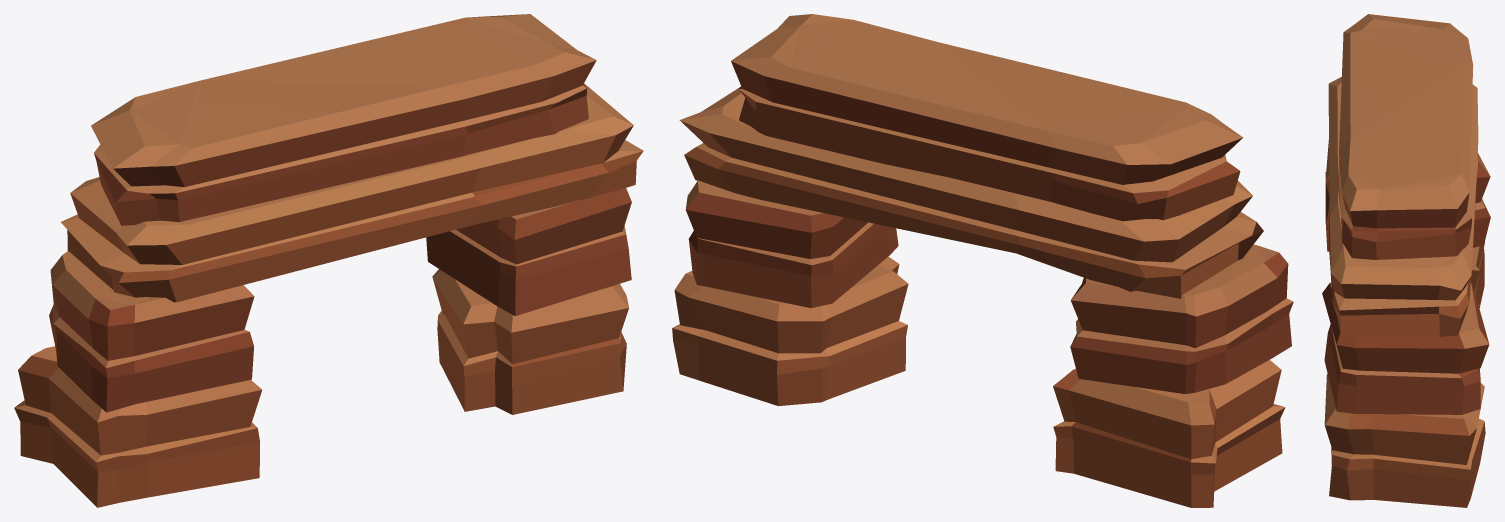
File: sandstone_arch.glb
3 renders of one model, left to right at view 1: azimuth 30°, elevation 25°; view 2: azimuth 150°, elevation 25°; view 3: azimuth 270°, elevation 25°, orthographic. The views are drawn at different scales.
Parts seen in each view (by area): view 1: sandstone_arch; view 2: sandstone_arch; view 3: sandstone_arch.
Part boxes in pixels (x1,y1,x2,y2): sandstone_arch: (14,14,643,507); sandstone_arch: (672,14,1293,507); sandstone_arch: (1322,14,1490,507).
Size of the model in its own units: 15.5 by 8.98 by 4.75.
